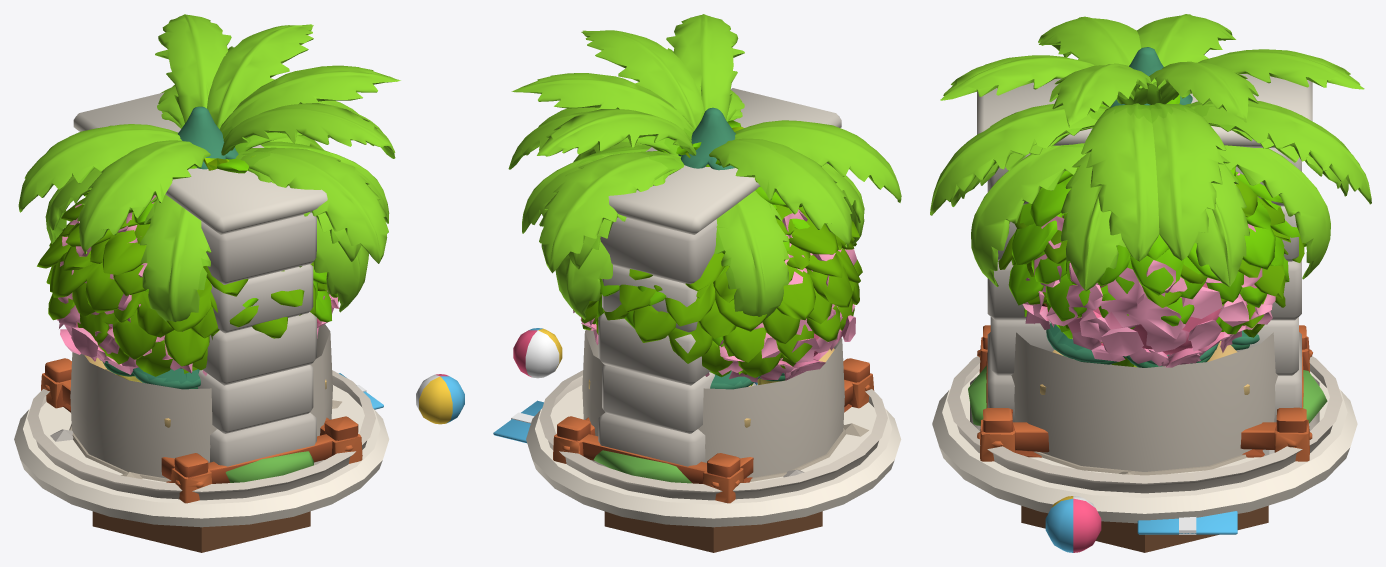
The model's file is decor_arena.85bacd8a.glb.
3 renders of one model, left to right at view 1: azimuth 30°, elevation 25°; view 2: azimuth 150°, elevation 25°; view 3: azimuth 270°, elevation 25°, orthographic. The views are drawn at different scales.
Visible parts, largest first — view 1: Br_pier, Tree_palm_a, Tree_palm_b, Tree_round_b, Tile_rim_c, Ped_body, Tile_side_c, Planter, Br_leg, Tree_blossom_b, Tree_pine_b, Umbrella (+2 smaller); view 2: Br_pier, Tree_palm_b, Tree_palm_a, Tree_round_b, Tile_rim_c, Ped_body, Tile_side_c, Planter, Br_leg, Tree_blossom_b, Umbrella, Tree_pine_b (+2 smaller); view 3: Tree_palm_a, Tree_palm_b, Ped_body, Br_pier, Tile_rim_c, Tree_round_a, Tree_blossom_a, Tile_side_c, Planter, Umbrella, Tree_round_b, Br_leg (+2 smaller).
Boxes of the visible parts, x1,y1,x2,y2 form: Br_pier: (73, 92, 327, 482); Tree_palm_a: (18, 24, 395, 312); Tree_palm_b: (77, 14, 400, 321); Tree_round_b: (37, 191, 327, 376); Tile_rim_c: (14, 385, 389, 527); Ped_body: (70, 324, 332, 478); Tile_side_c: (27, 370, 375, 500); Planter: (41, 358, 362, 503); Br_leg: (92, 511, 310, 552); Tree_blossom_b: (57, 195, 207, 376); Tree_pine_b: (99, 106, 238, 389); Umbrella: (339, 373, 464, 424); Br_pier: (590, 88, 841, 483); Tree_palm_b: (508, 30, 901, 319); Tree_palm_a: (511, 14, 851, 323); Tree_round_b: (581, 164, 862, 377); Tile_rim_c: (526, 385, 901, 527); Ped_body: (582, 329, 844, 477); Tile_side_c: (539, 370, 887, 500); Planter: (553, 358, 874, 503); Br_leg: (604, 511, 822, 552); Tree_blossom_b: (591, 209, 857, 382); Umbrella: (493, 328, 562, 443); Tree_pine_b: (678, 107, 784, 389); Tree_palm_a: (930, 14, 1348, 286); Tree_palm_b: (951, 16, 1371, 290); Ped_body: (1011, 332, 1278, 471); Br_pier: (968, 74, 1327, 431); Tile_rim_c: (932, 371, 1357, 523); Tree_round_a: (1008, 94, 1306, 338); Tree_blossom_a: (1022, 173, 1275, 367); Tile_side_c: (947, 356, 1342, 493); Planter: (977, 325, 1312, 461); Umbrella: (1045, 496, 1237, 552); Tree_round_b: (998, 180, 1304, 342); Br_leg: (1021, 505, 1268, 552).
Size of the model in its own units: 3.58 by 3.72 by 3.09.
